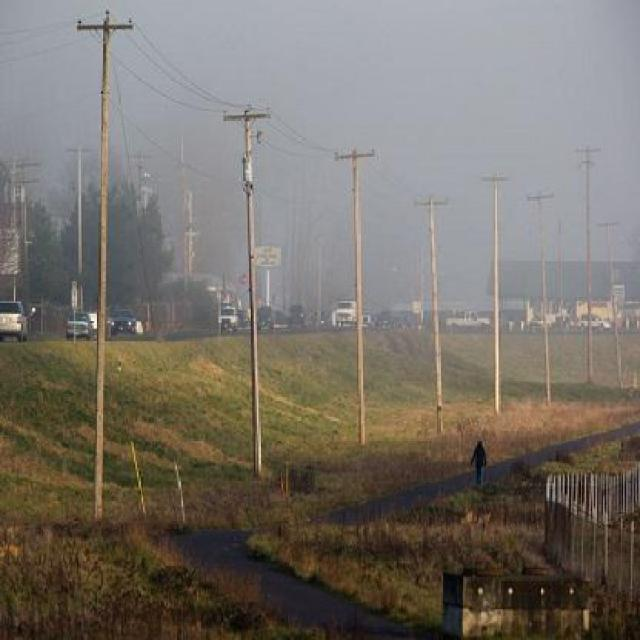pole: (69, 8, 143, 512), (220, 103, 278, 479)
